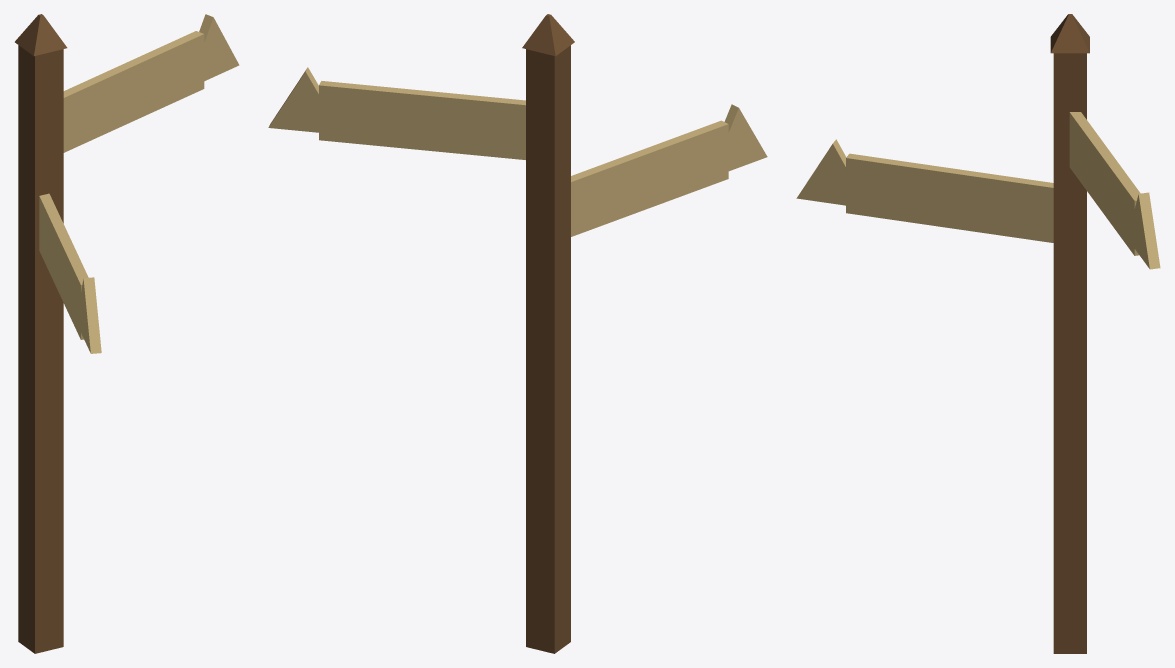
The model's file is signpost.glb.
3 renders of one model, left to right at view 1: azimuth 30°, elevation 25°; view 2: azimuth 150°, elevation 25°; view 3: azimuth 270°, elevation 25°, orthographic.
Parts seen in each view (by area): view 1: signpost; view 2: signpost; view 3: signpost.
Part boxes in pixels (x1,y1,x2,y2): signpost: (15,14,239,653); signpost: (268,14,767,653); signpost: (796,14,1160,653).
Bounding box in the file's own units: 1.35 × 2.52 × 1.32.
